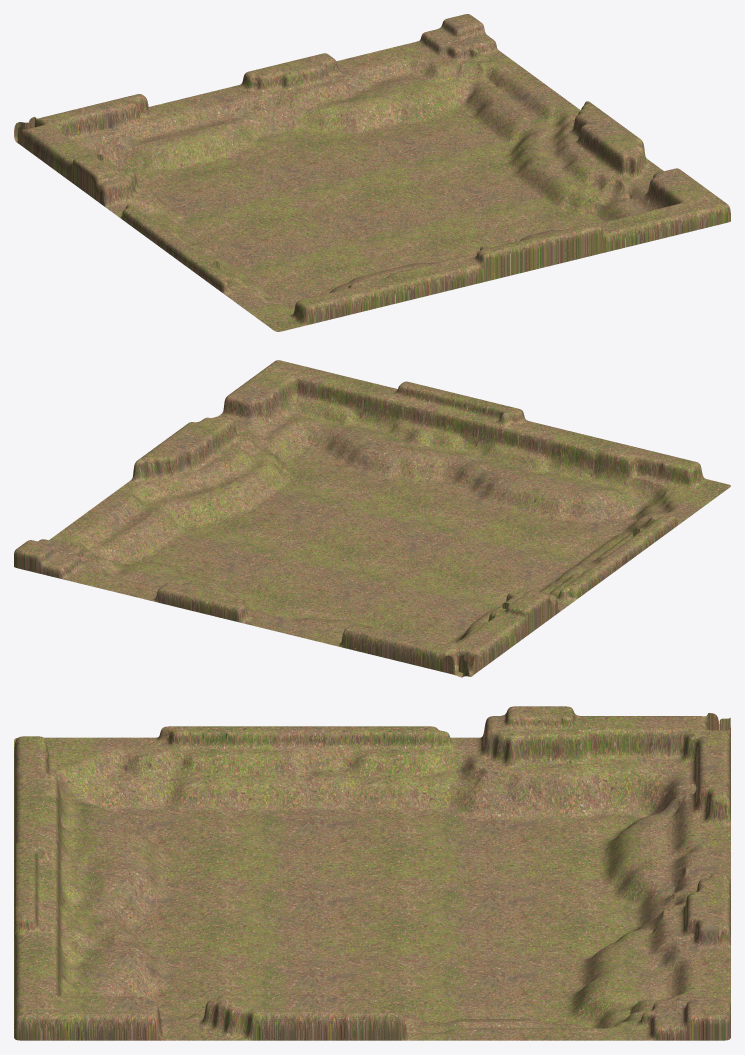
File: terreno.fbx
3 views of the same model, one above another, from view 1: azimuth 30°, elevation 25°; view 2: azimuth 150°, elevation 25°; view 3: azimuth 270°, elevation 25° (orthographic). The views are drawn at different scales.
Parts seen in each view (by area): view 1: Plane; view 2: Plane; view 3: Plane.
Part boxes in pixels (x1,y1,x2,y2): Plane: [14, 14, 730, 331]; Plane: [14, 360, 730, 677]; Plane: [14, 706, 730, 1040].
Bounding box in the file's own units: 25888 × 2772 × 25888.
